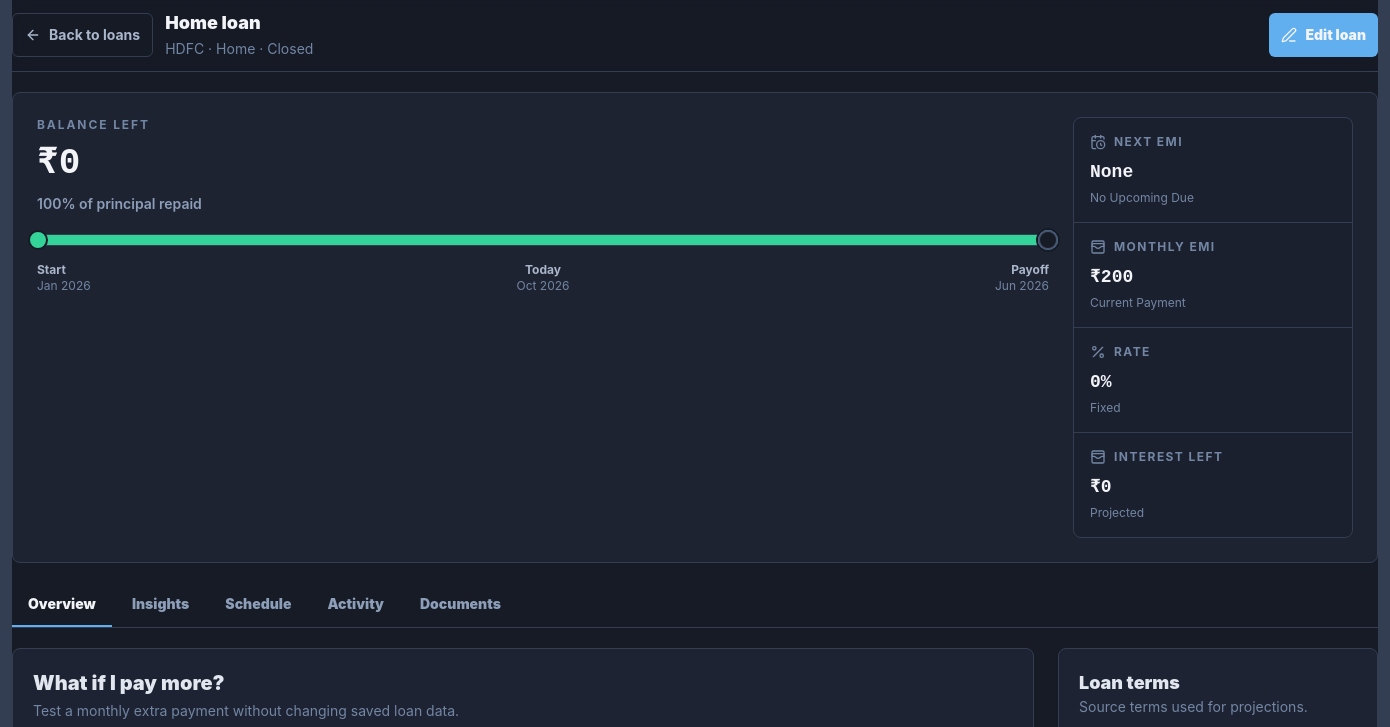
Test: LoanDetails › announces pending section changes when tab navigation has not settled yet
Click the tab "Schedule" at coordinates (258, 604), box [209,582,307,626]
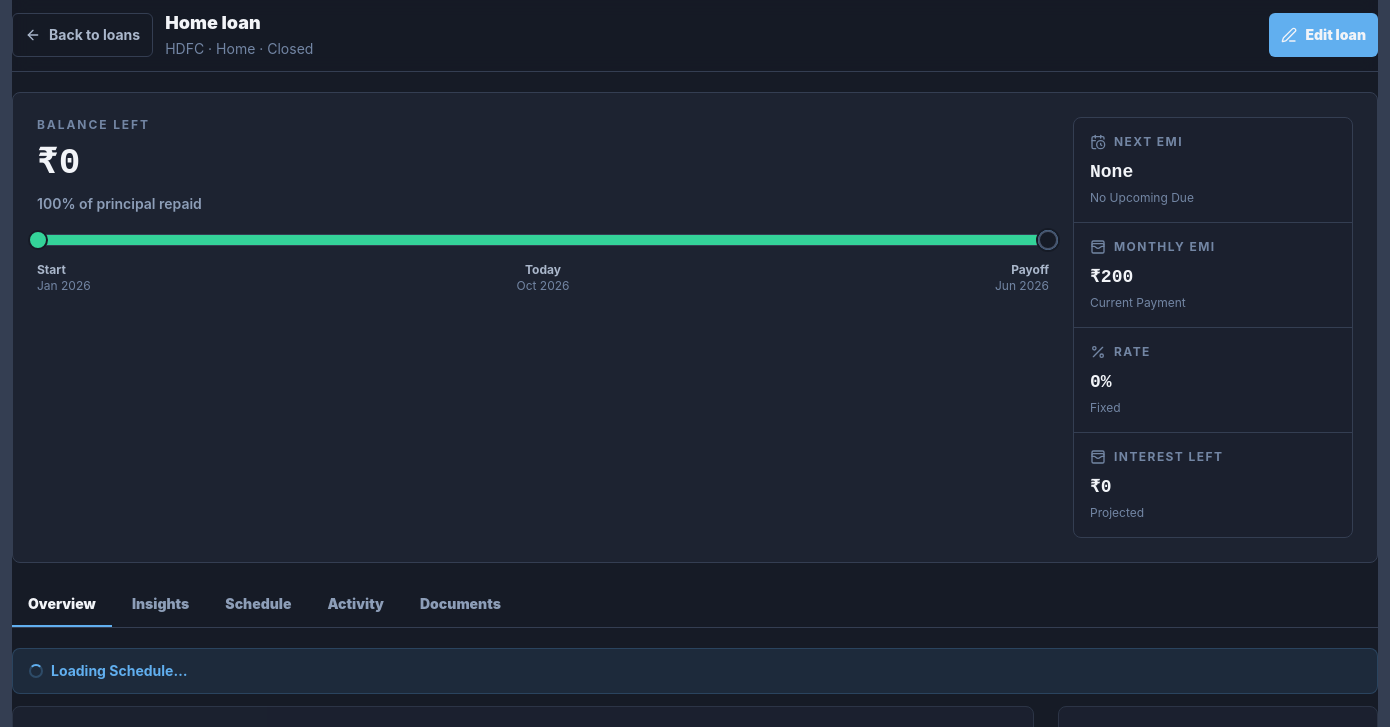
Check: the message shows "Loading Schedule", box [51,662,187,678]
